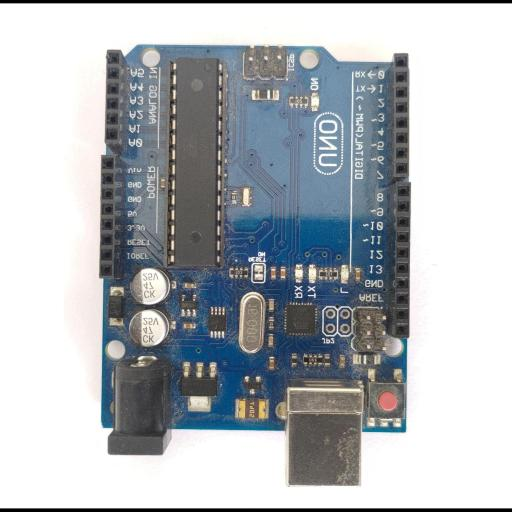Arduino Uno R3: (100, 43, 409, 486)
